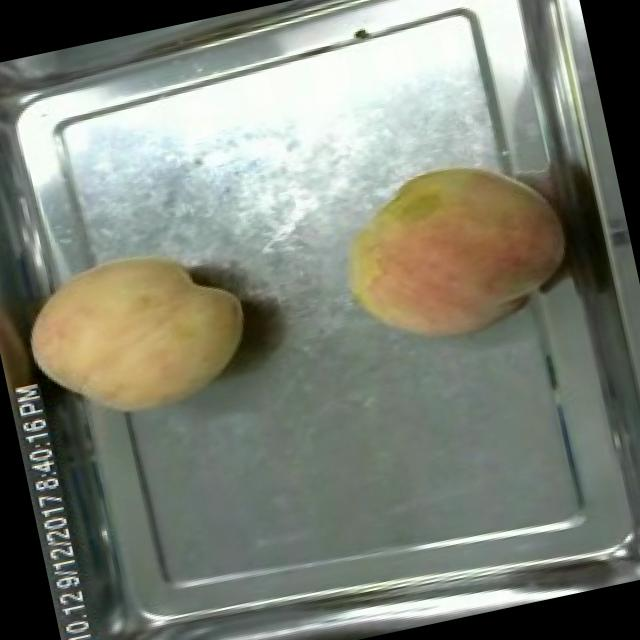Fruit: (314, 134, 588, 366), (12, 224, 268, 441)
